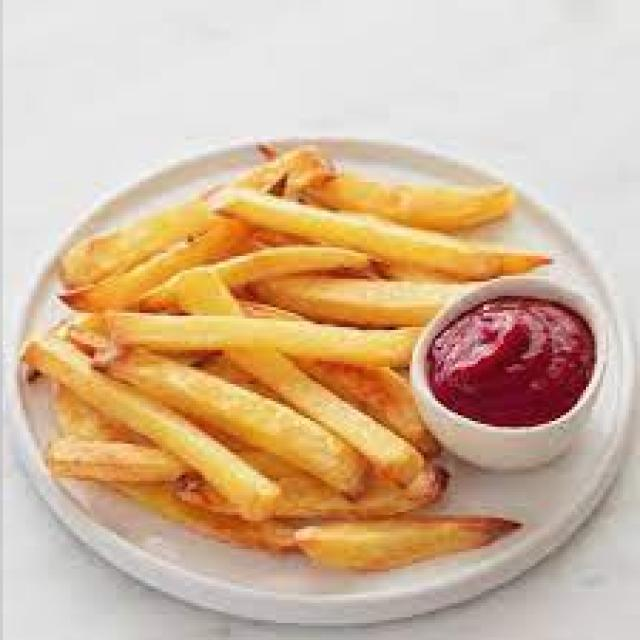kentang goreng: (222, 185, 552, 282), (85, 310, 424, 384)
